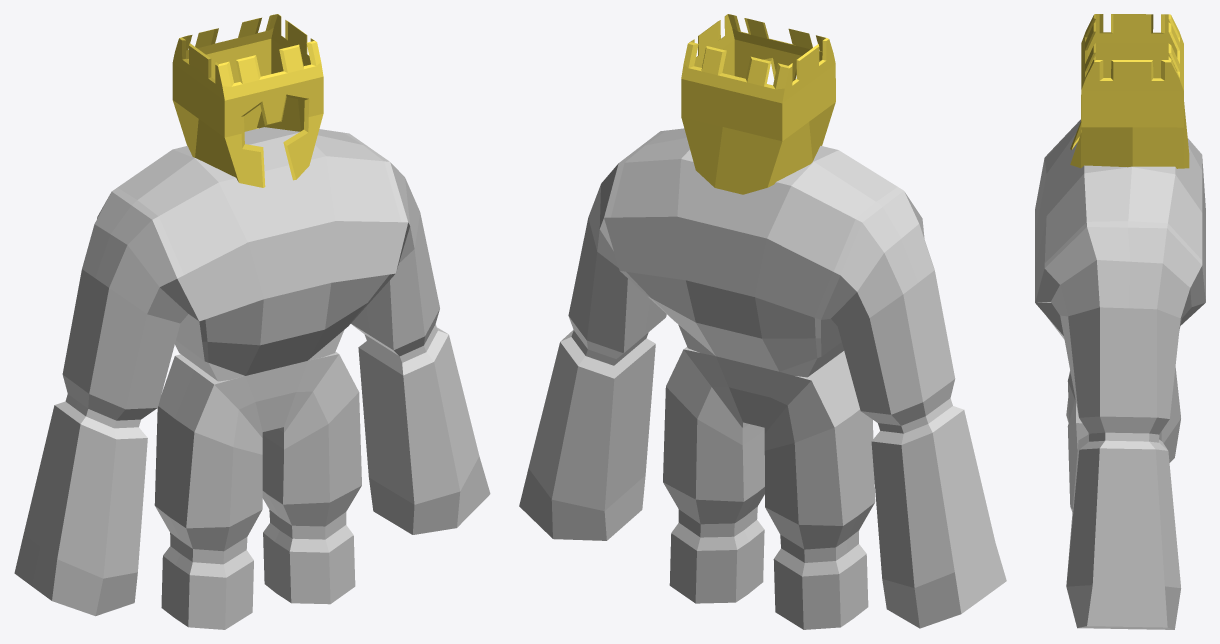
File: carrara_rook.fbx
3 renders of one model, left to right at view 1: azimuth 30°, elevation 25°; view 2: azimuth 150°, elevation 25°; view 3: azimuth 270°, elevation 25°, orthographic. The views are drawn at different scales.
Visible parts, largest first — view 1: carrara_rook; view 2: carrara_rook; view 3: carrara_rook.
Part boxes in pixels (left/top/right/bottom): carrara_rook: left=14, top=14, right=490, bottom=629; carrara_rook: left=519, top=14, right=1006, bottom=629; carrara_rook: left=1035, top=14, right=1205, bottom=629.
Size of the model in its own units: 782 by 950 by 268.
